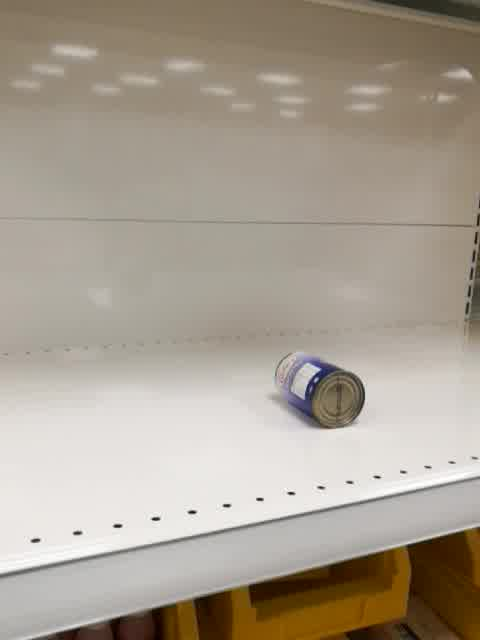sardine: (271, 349, 367, 431)
